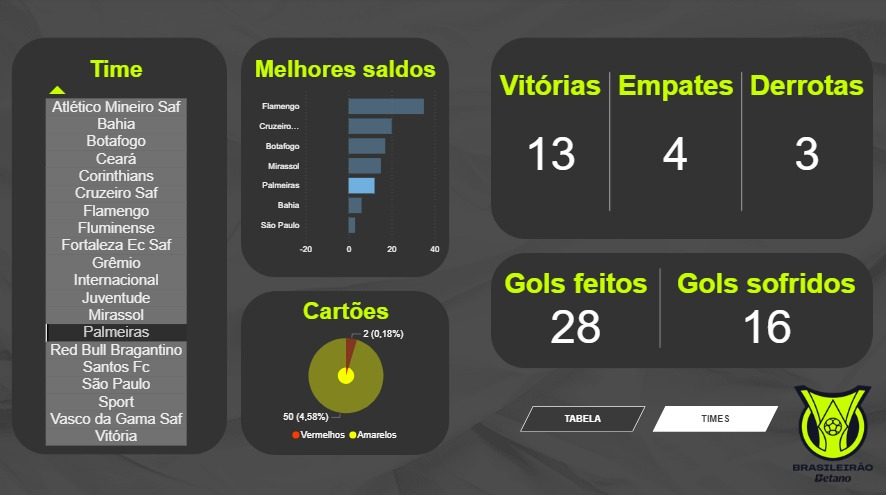

This screenshot's page, from the dashboard's own definition file:
{"tool":"powerbi","page":{"name":"TIMES","canvas":[1280,720],"ordinal":1},"visuals":[{"type":"tableEx","fields":{"Values":["tabela.Time","select","select1"]},"box":[66.2,83.5,213.1,564.5],"z":0},{"type":"pieChart","title":"Cartões","fields":{"Y":["Sum(tabela.CV)","Sum(tabela.CA)"]},"box":[348.5,432,302.4,216],"z":1000},{"type":"clusteredBarChart","title":"Melhores saldos","fields":{"Category":["tabela.Time"],"Y":["Sum(tabela.SG)"]},"box":[358.6,83.5,280.8,293.8],"z":2000},{"type":"card","title":"Gols feitos","fields":{"Values":["select","select1","select2","tabela.GOLS FEITOS"]},"box":[708.5,388.8,244.8,118.1],"z":4000},{"type":"card","title":"Gols sofridos","fields":{"Values":["select","select1","select2","tabela.GOLS SOFRIDOS"]},"box":[953.3,388.8,303.8,118.1],"z":5000},{"type":"card","title":"Vitórias","fields":{"Values":["select","select1","select2","tabela.VITORIAS"]},"box":[708.5,103.7,171.4,204.5],"z":6000},{"type":"card","title":"Empates","fields":{"Values":["select","select1","select2","tabela.EMPATES"]},"box":[879.8,103.7,190.1,204.5],"z":7000},{"type":"card","title":"Derrotas","fields":{"Values":["select","select1","select2","tabela.DERROTAS"]},"box":[1069.9,103.7,187.2,204.5],"z":8000},{"type":"pageNavigator","box":[750.2,587.5,373,37.4],"z":9000}]}

Visuals, with their boxes in screenshot pixels (x1, y1, x2, y2), scaled from the page's 1280x720 canvas onto the 886x495 screenshot:
tableEx - tabela.Time x select: BBox(46, 57, 193, 446)
"Cartões" pieChart: BBox(241, 297, 451, 446)
"Melhores saldos" clusteredBarChart: BBox(248, 57, 443, 259)
"Gols feitos" card: BBox(490, 267, 660, 348)
"Gols sofridos" card: BBox(660, 267, 870, 348)
"Vitórias" card: BBox(490, 71, 609, 212)
"Empates" card: BBox(609, 71, 741, 212)
"Derrotas" card: BBox(741, 71, 870, 212)
pageNavigator: BBox(519, 404, 777, 430)
